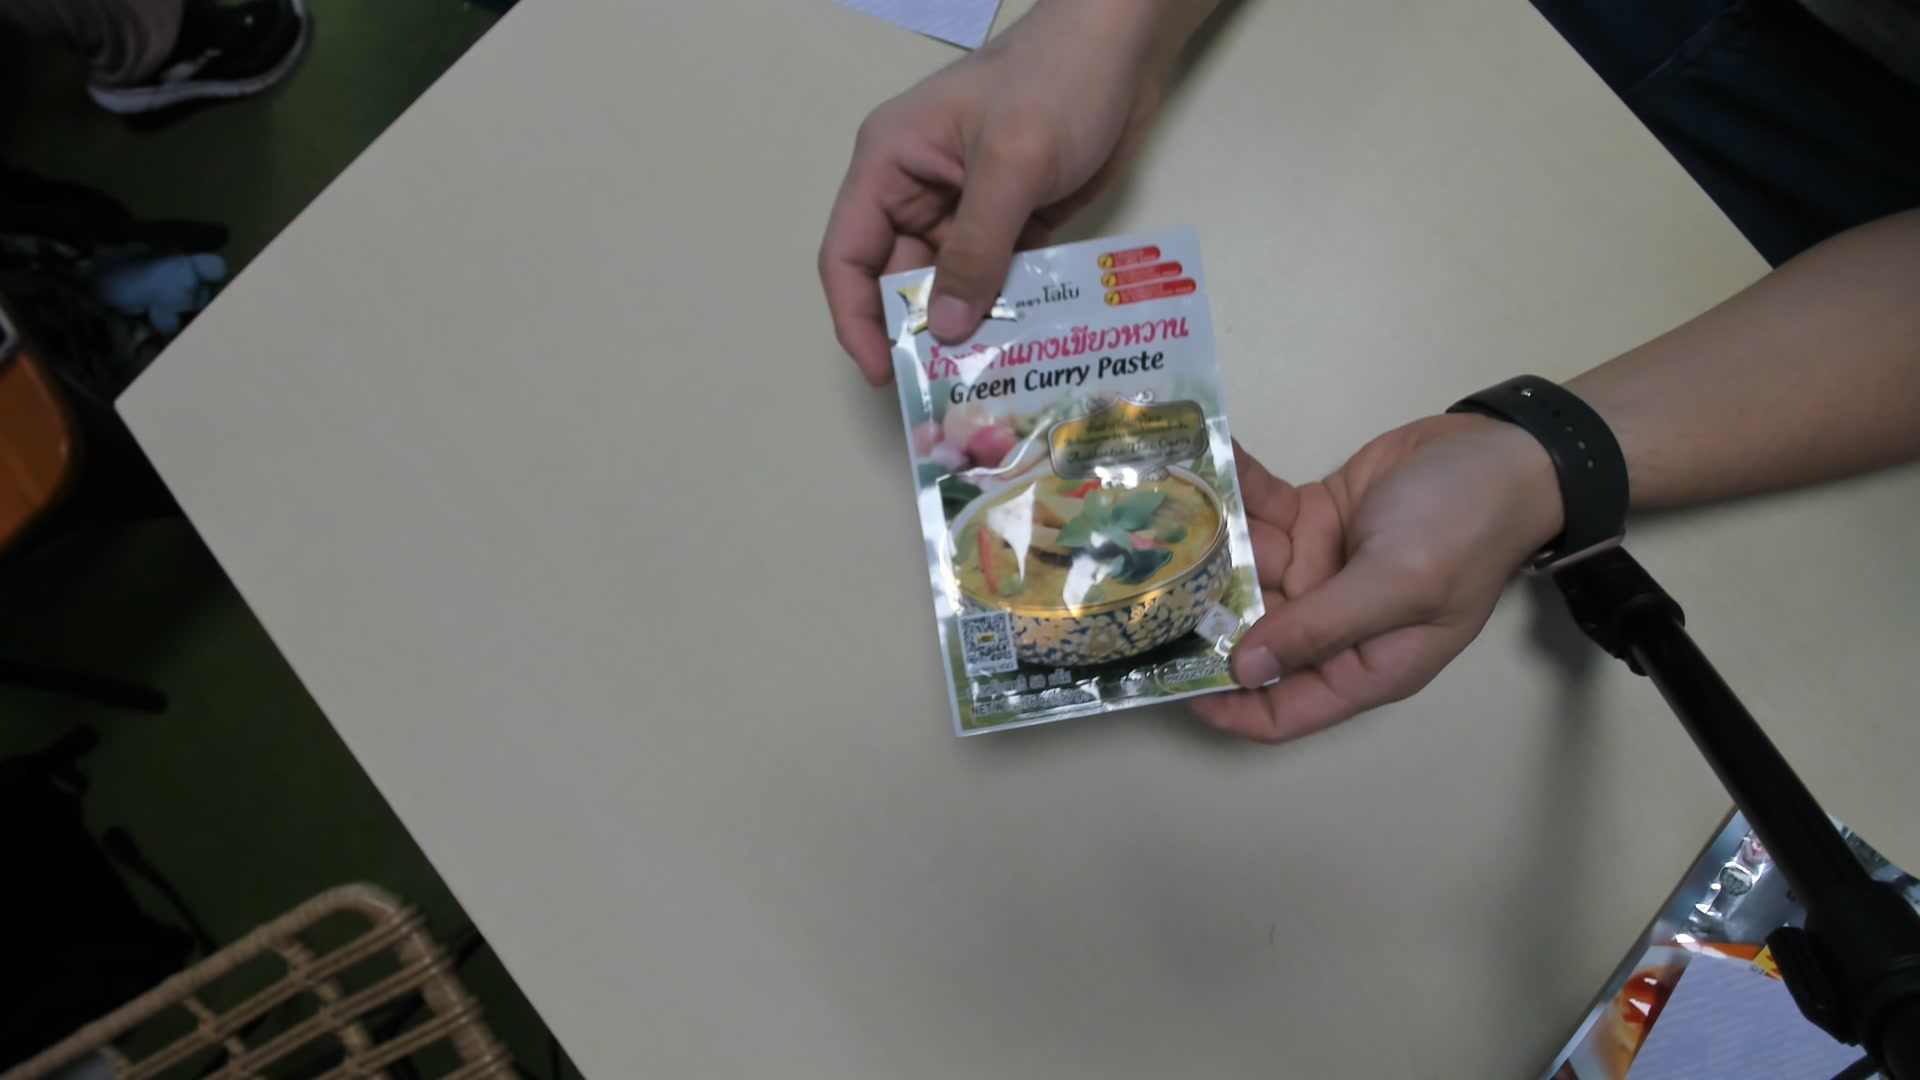CurryPastePowderSauce_0-99g_Halal_NonHealthy: (877, 228, 1274, 738)
